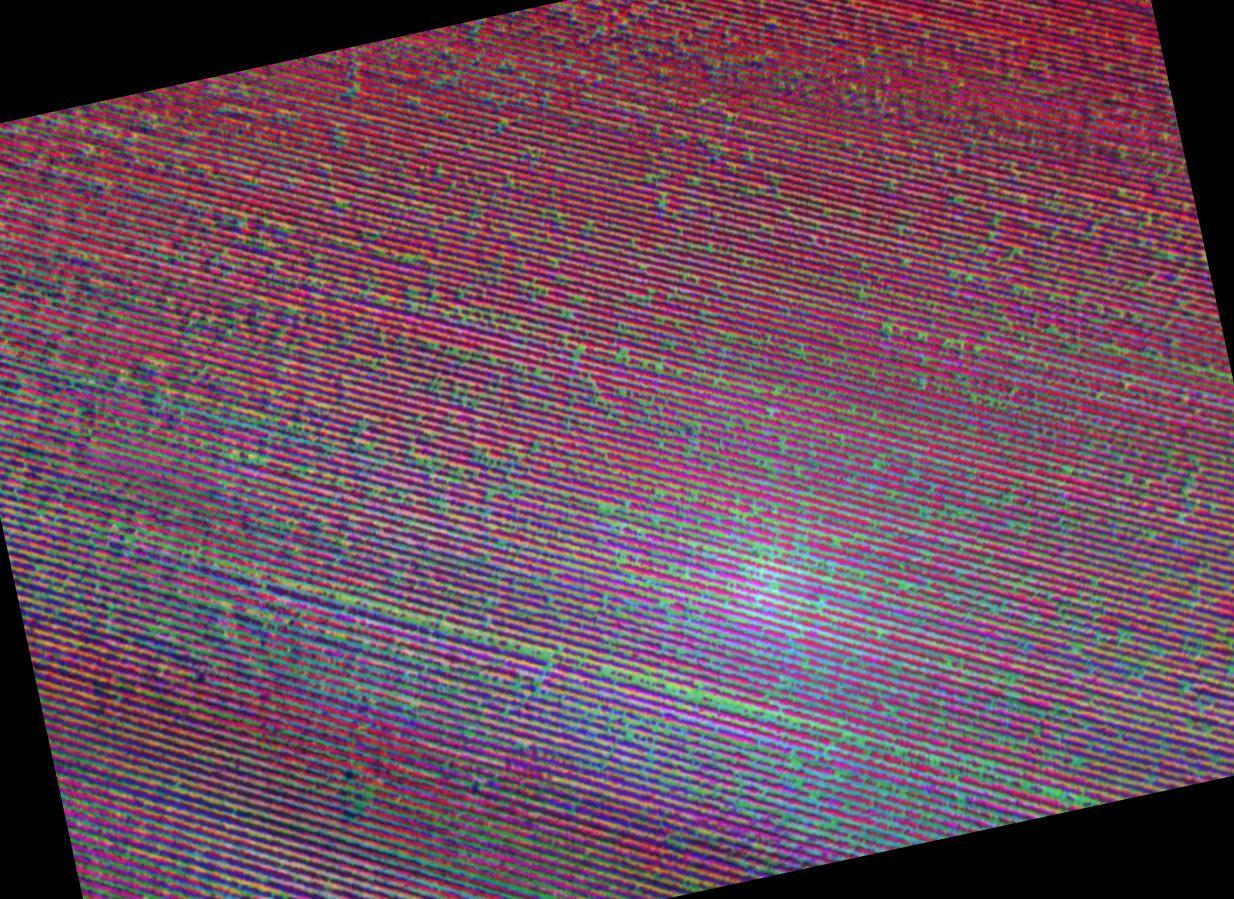dc: (681, 713, 829, 825), (46, 503, 163, 642), (443, 628, 550, 746), (721, 533, 811, 671), (273, 578, 362, 698)
